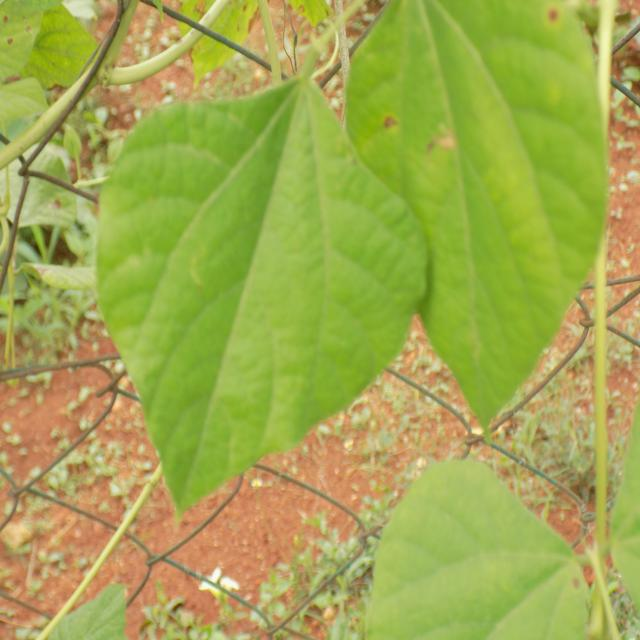Dolicos bean_cercospora leaf spot: (344, 0, 610, 425)
Dolicos bean_healthy: (99, 78, 434, 500)
